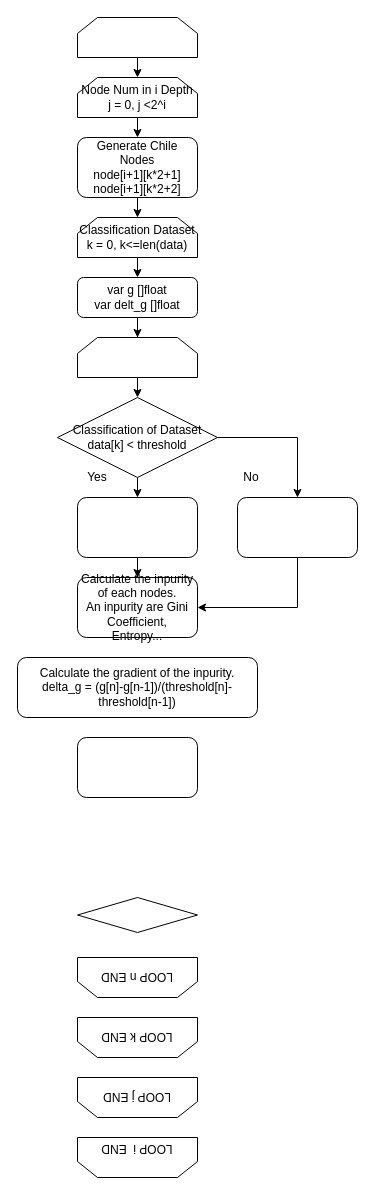
The diagram is 375 pixels wide and 1195 high, and some of its shapes have lost their labels. Here are the shapes that lost their labels. From the top down, the centre of each, then its label:
pixel 137 37: Node Depth i = 0,
pixel 137 357: Improvement of classification base on an inpurity
pixel 137 527: data[k] pointa is stored in node[i+1][j*2+1]
pixel 297 527: data[k] pointa is stored in node[i+1][j*2+2]
pixel 137 767: Calculate the gradient of the inpurity. delta_g =
